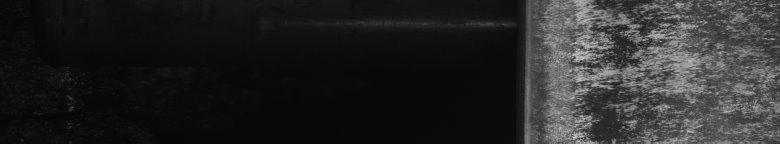kb: (543, 4, 776, 136)
